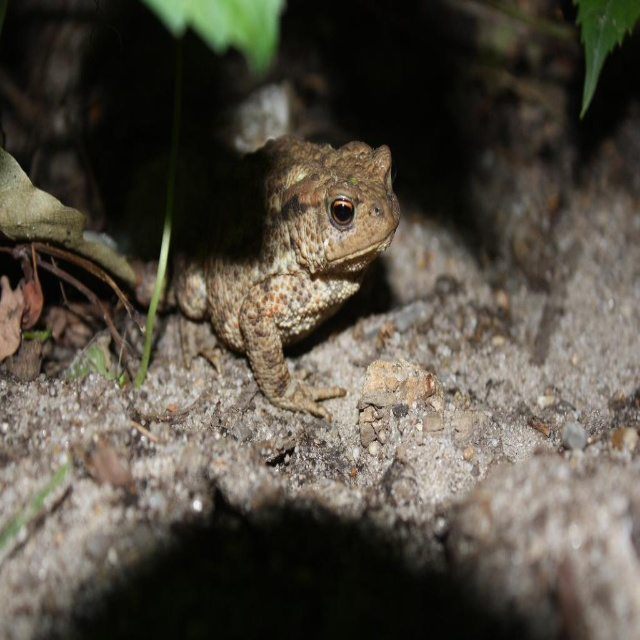Lizard: (127, 143, 389, 447)
